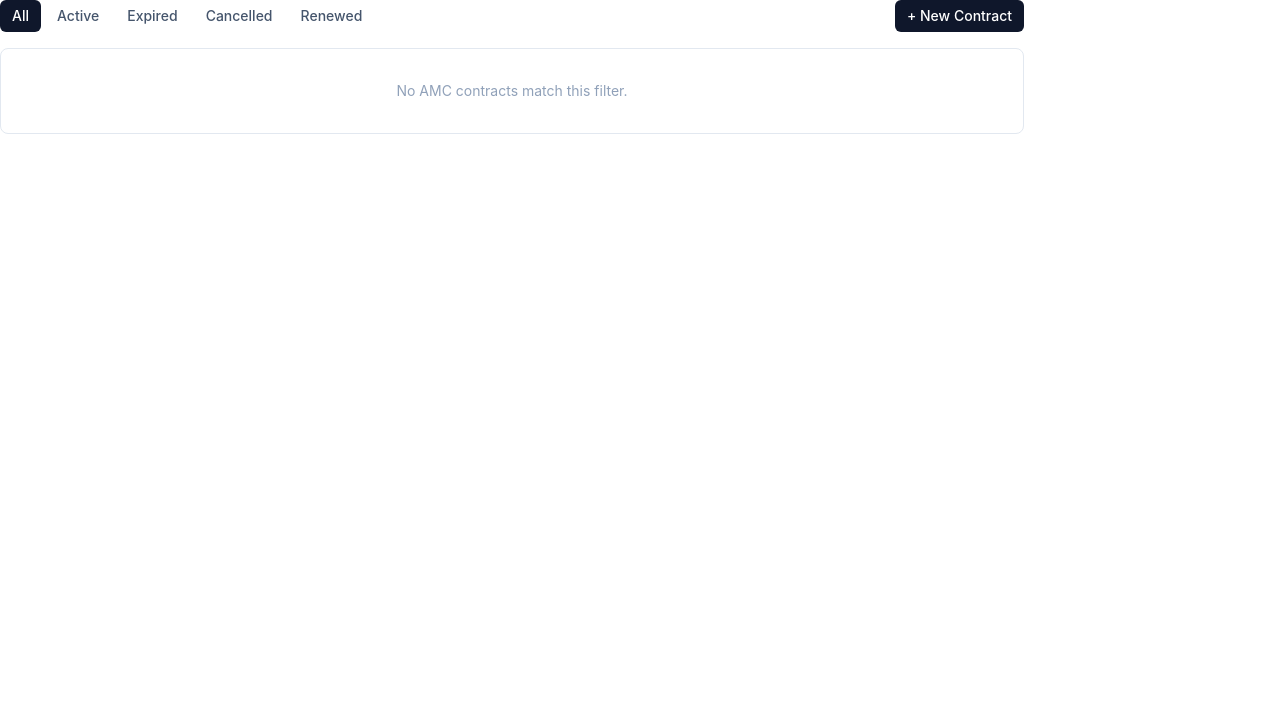
Scenario: ContractsPage - create form › falls back to a raw-paste technician input when the technician name list 403s (e.g. CCE)
expect the text "No AMC contracts match this filter." is shown: met, box [0,48,1024,134]
Click the button "+ New Contract": click(959, 16) [895,0,1024,32]
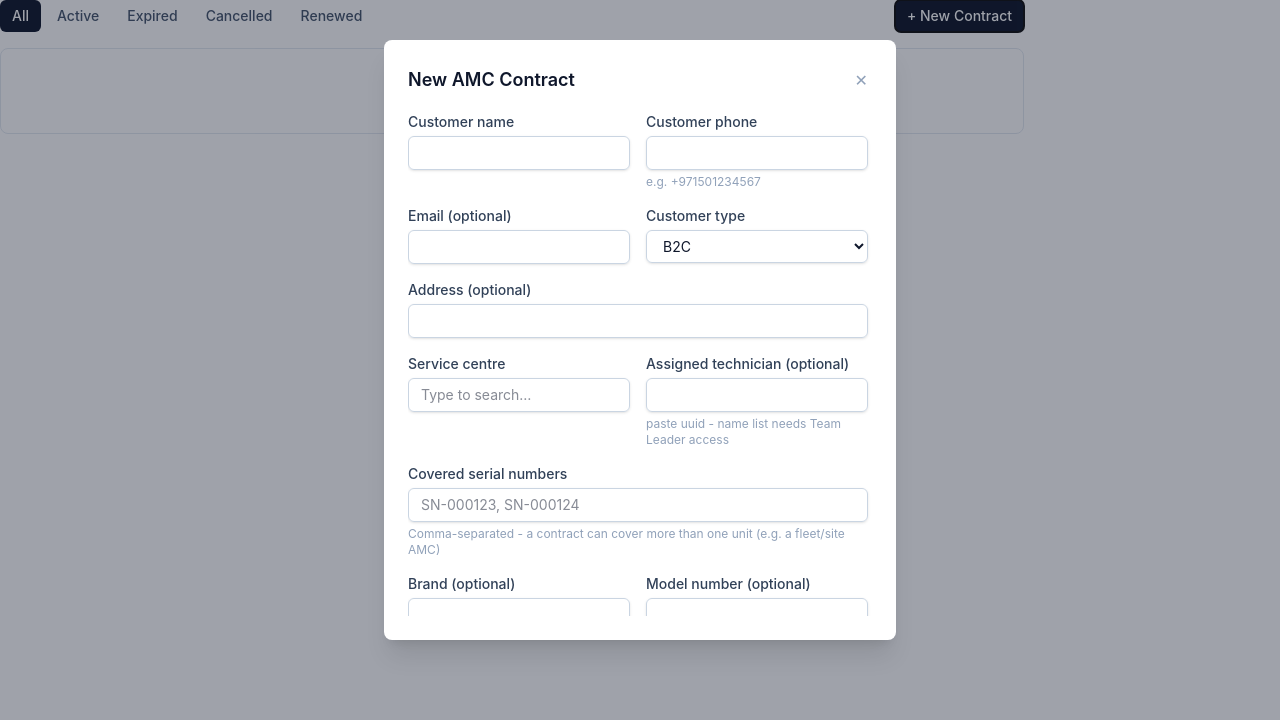
expect the text "paste uuid - name list needs Team Leader access" is shown: met, box [646,416,868,448]
expect the number of fields with test id "name-picker-input" is 1: met, box [408,378,630,412]
